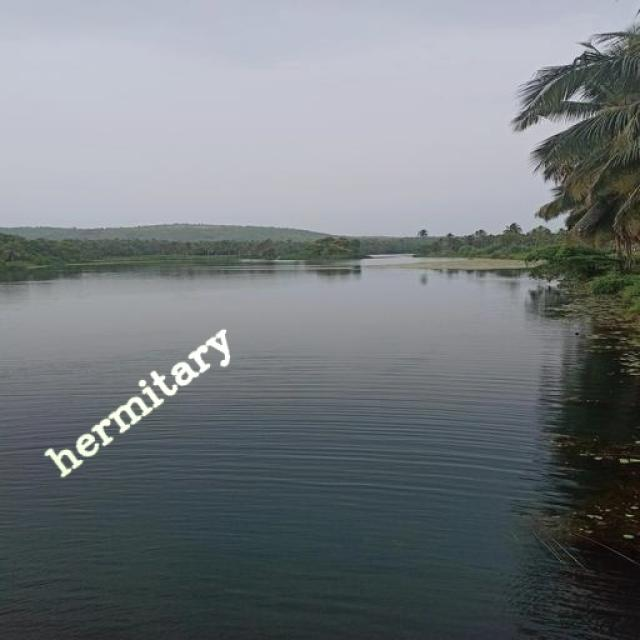watermark: (51, 314, 236, 483)
